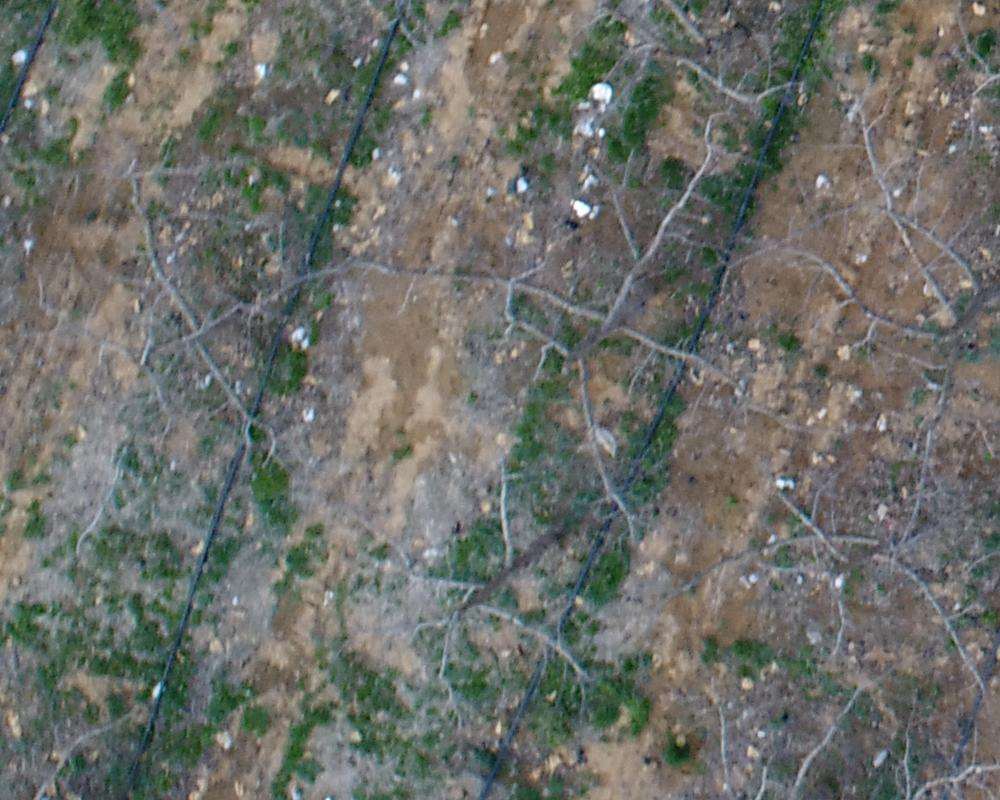apple: (360, 104, 757, 570), (728, 91, 990, 462), (79, 147, 388, 461), (673, 407, 990, 707), (360, 459, 637, 729), (547, 10, 813, 156)
